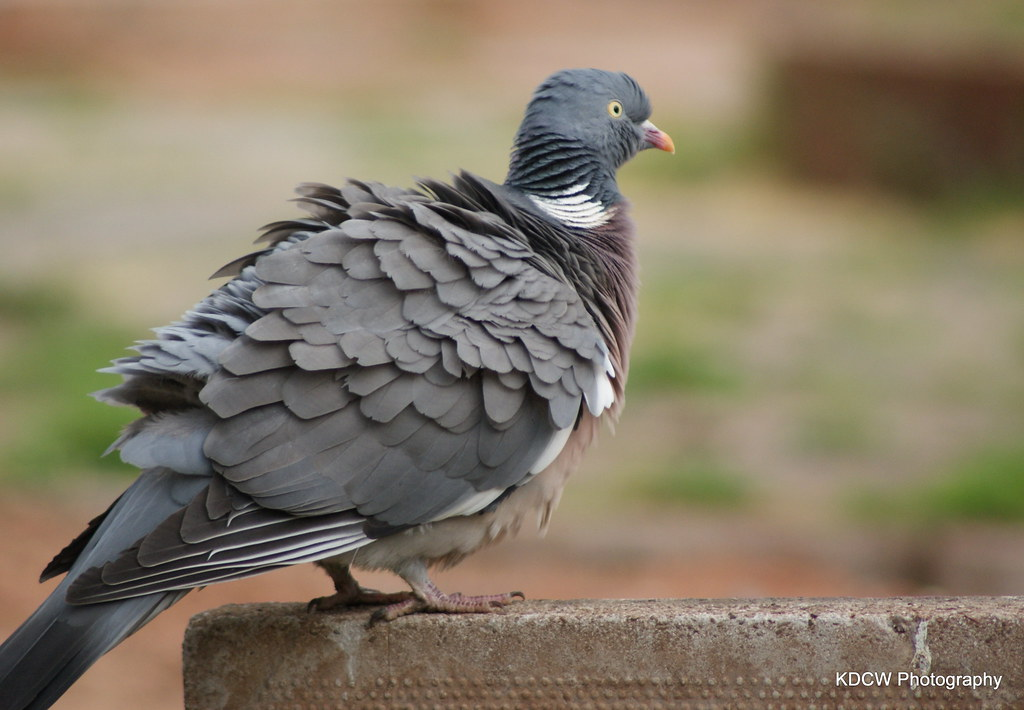pigeon: (1, 63, 692, 710)
